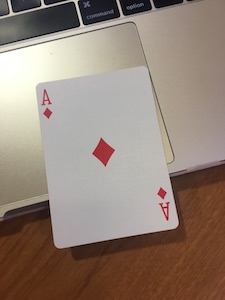AceOfDiamonds: (31, 65, 182, 253)
